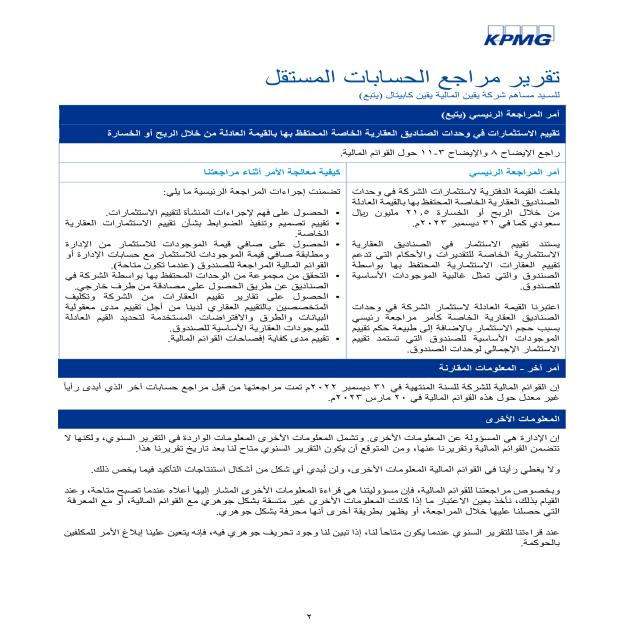auditor_report: (240, 70, 573, 90)
